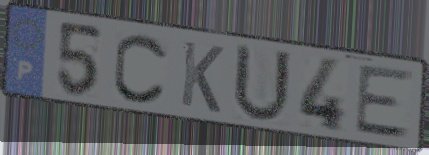4: (296, 55, 350, 133)
5: (54, 18, 105, 101)
C: (111, 30, 171, 107)
E: (352, 64, 416, 141)
K: (178, 38, 226, 117)
U: (229, 41, 294, 126)
